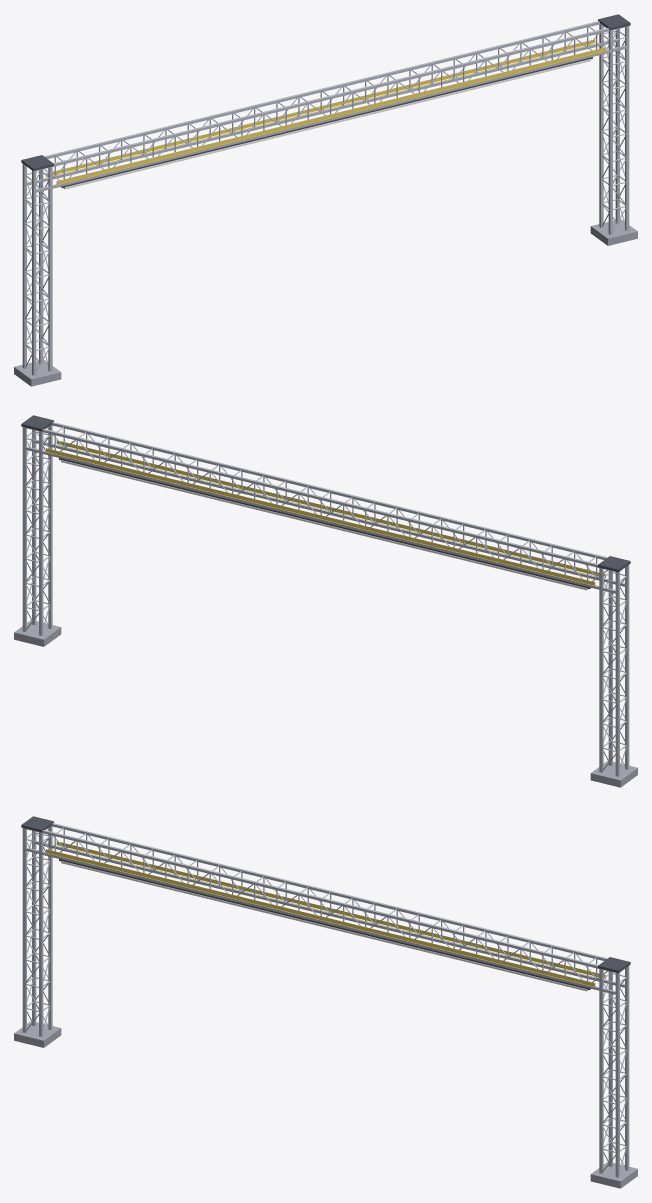
Rendered from Race_gantry.fbx.
The picture shows the model from 3 angles, top to bottom: view 1: azimuth 30°, elevation 25°; view 2: azimuth 150°, elevation 25°; view 3: azimuth 330°, elevation 25°; orthographic projection.
Visible parts, largest first — view 1: Race_gantry; view 2: Race_gantry; view 3: Race_gantry.
Boxes of the visible parts, bbox=[...] form: Race_gantry: bbox=[14, 14, 637, 386]; Race_gantry: bbox=[14, 415, 637, 787]; Race_gantry: bbox=[14, 816, 637, 1188].
Bounding box in the file's own units: 52.6 × 17.8 × 2.6.
